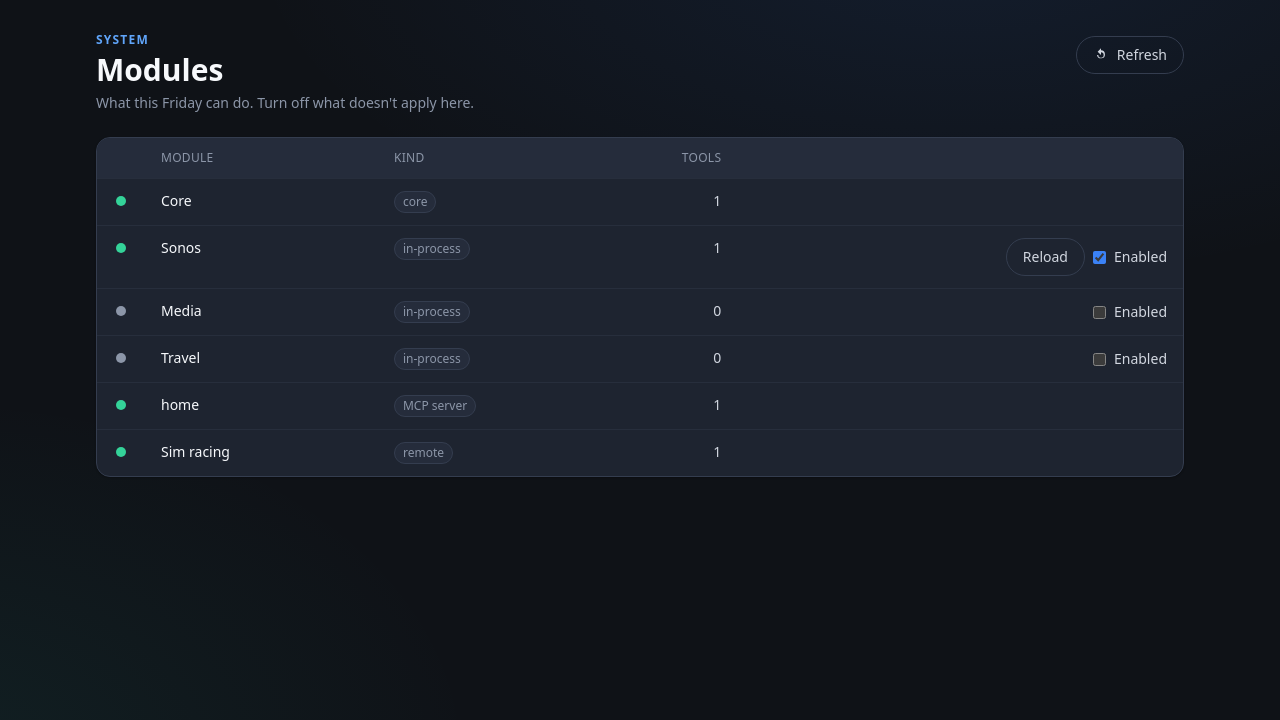
Test: ModulesPage › turning a module on needs no confirmation; a failed start shows failed with the error
The width and height of the screenshot is (1280, 720).
Click the checkbox labelled "Enabled" in the row of "Media": (1100,312) [1093,306,1106,318]
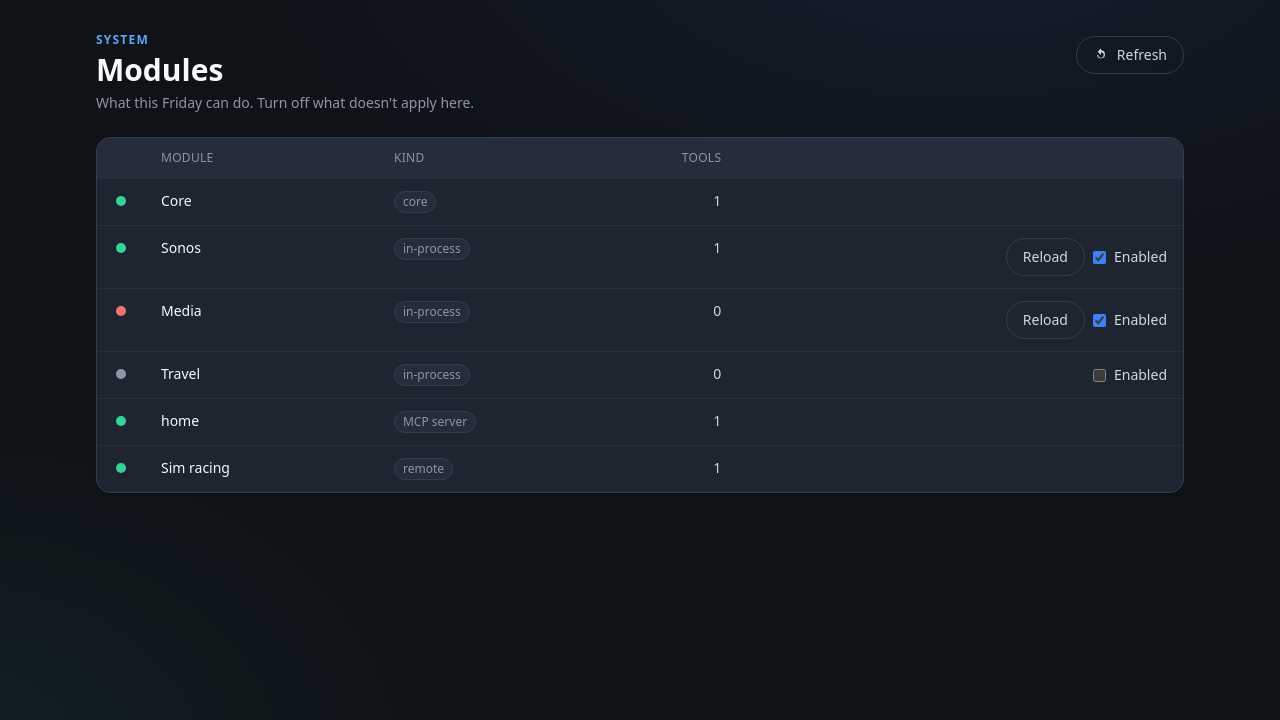
Check: the checkbox labelled "Enabled" in the row of "Media" is checked, box [1093,314,1106,326]
Click the row "Media in-process 0 Reload Enabled": (640,320) [97,288,1183,352]
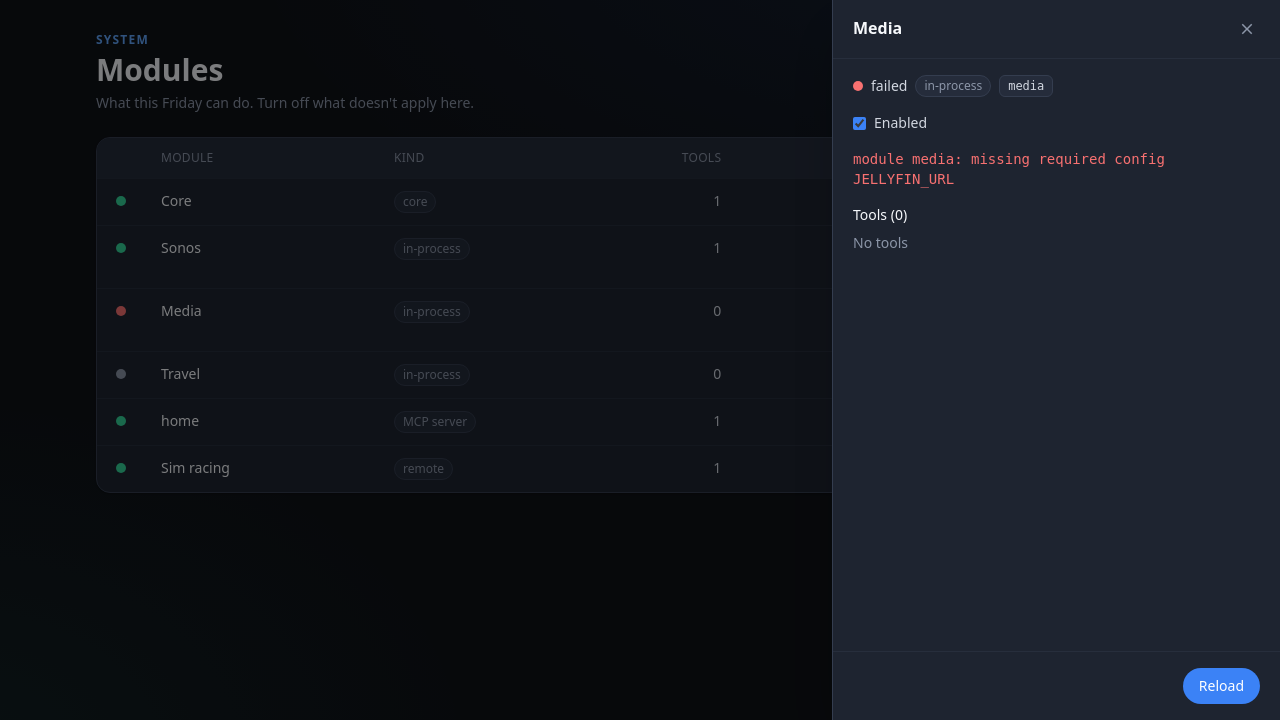
Check: the dialog shows "JELLYFIN_URL", box [853,151,1165,187]
